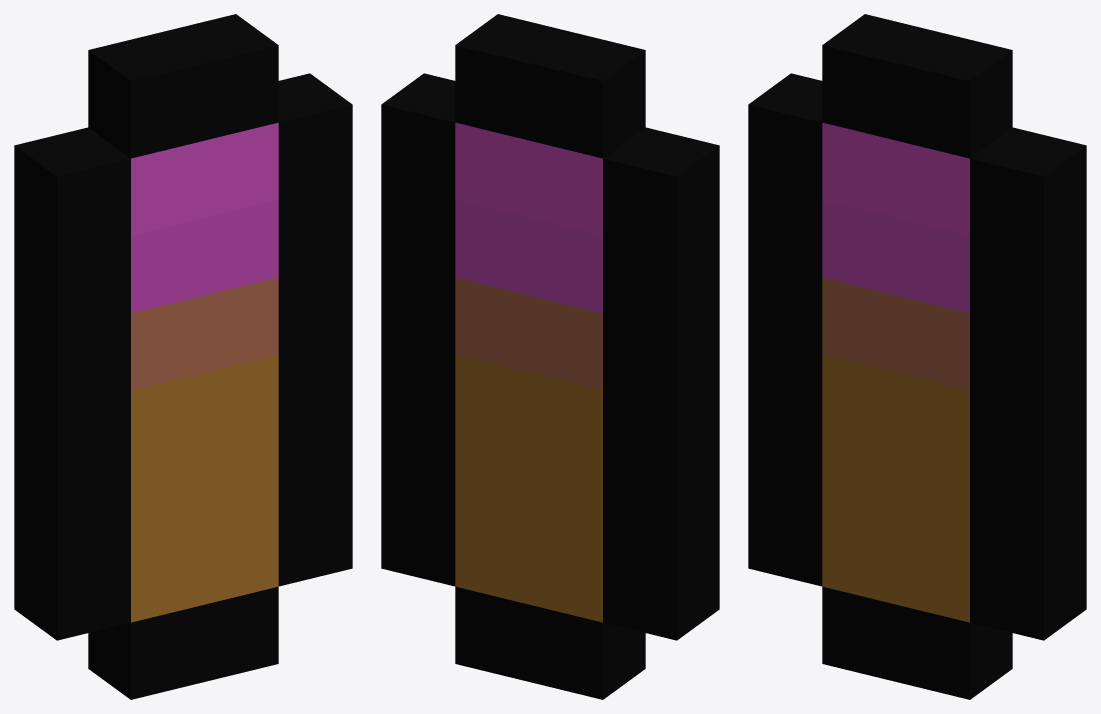
The model's file is Magenta Torch.glb.
3 renders of one model, left to right at view 1: azimuth 30°, elevation 25°; view 2: azimuth 150°, elevation 25°; view 3: azimuth 330°, elevation 25°, orthographic.
Parts seen in each view (by area): view 1: generated(Clone); view 2: generated(Clone); view 3: generated(Clone).
Boxes of the visible parts, <box> form: generated(Clone): <box>14,14,352,699</box>; generated(Clone): <box>381,14,719,699</box>; generated(Clone): <box>748,14,1086,699</box>.
Size of the model in its own units: 4 by 8 by 1.
1 material, 1 textured.
